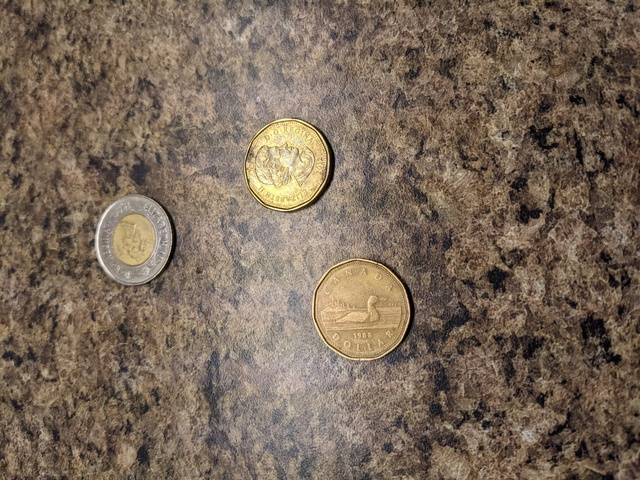loonie: (304, 249, 434, 365), (238, 115, 343, 217)
twonie: (86, 172, 185, 290)
